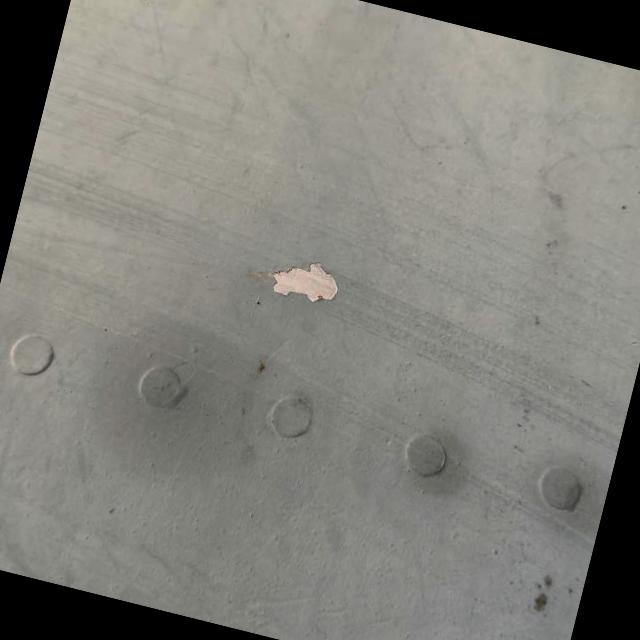paint-off: (243, 227, 367, 336)
